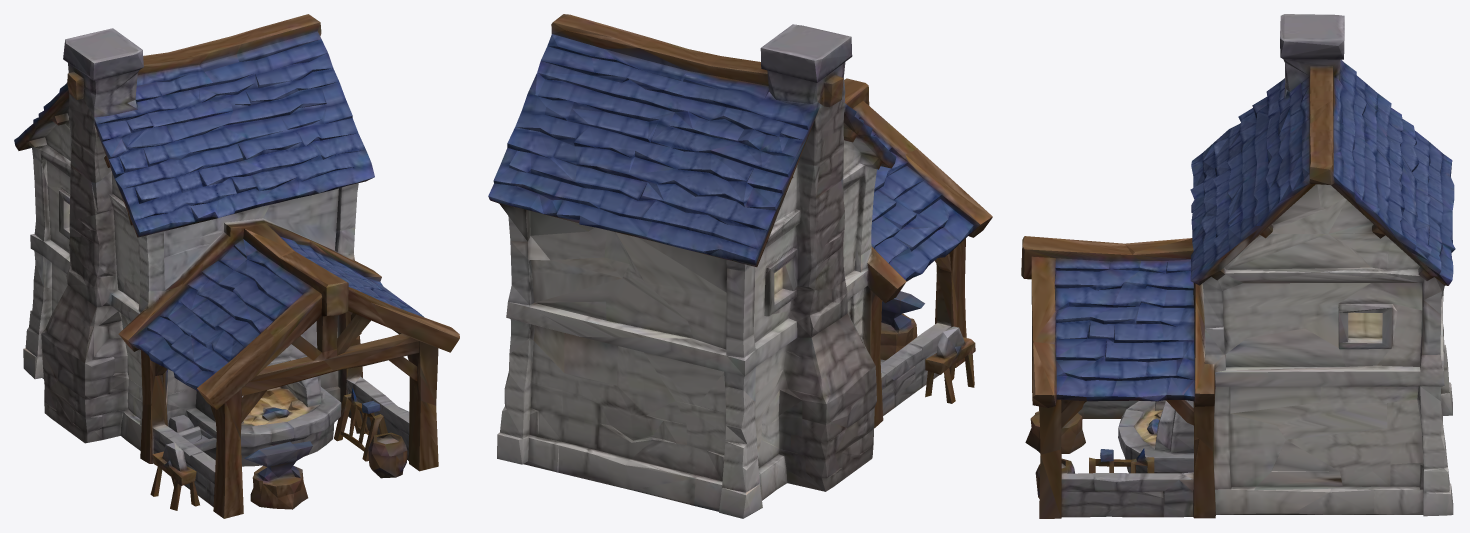
Rendered from oc_smithy.glb.
The picture shows the model from 3 angles, left to right: view 1: azimuth 30°, elevation 25°; view 2: azimuth 150°, elevation 25°; view 3: azimuth 270°, elevation 25°; orthographic projection. The views are drawn at different scales.
Visible parts, largest first — view 1: W_smithy; view 2: W_smithy; view 3: W_smithy.
Boxes of the visible parts, box(x1,y1,x2,y2) form: W_smithy: box(14, 14, 459, 518); W_smithy: box(488, 14, 992, 518); W_smithy: box(1021, 14, 1455, 518).
Size of the model in its own units: 8.09 by 10.98 by 11.09.
1 material, 1 textured.
